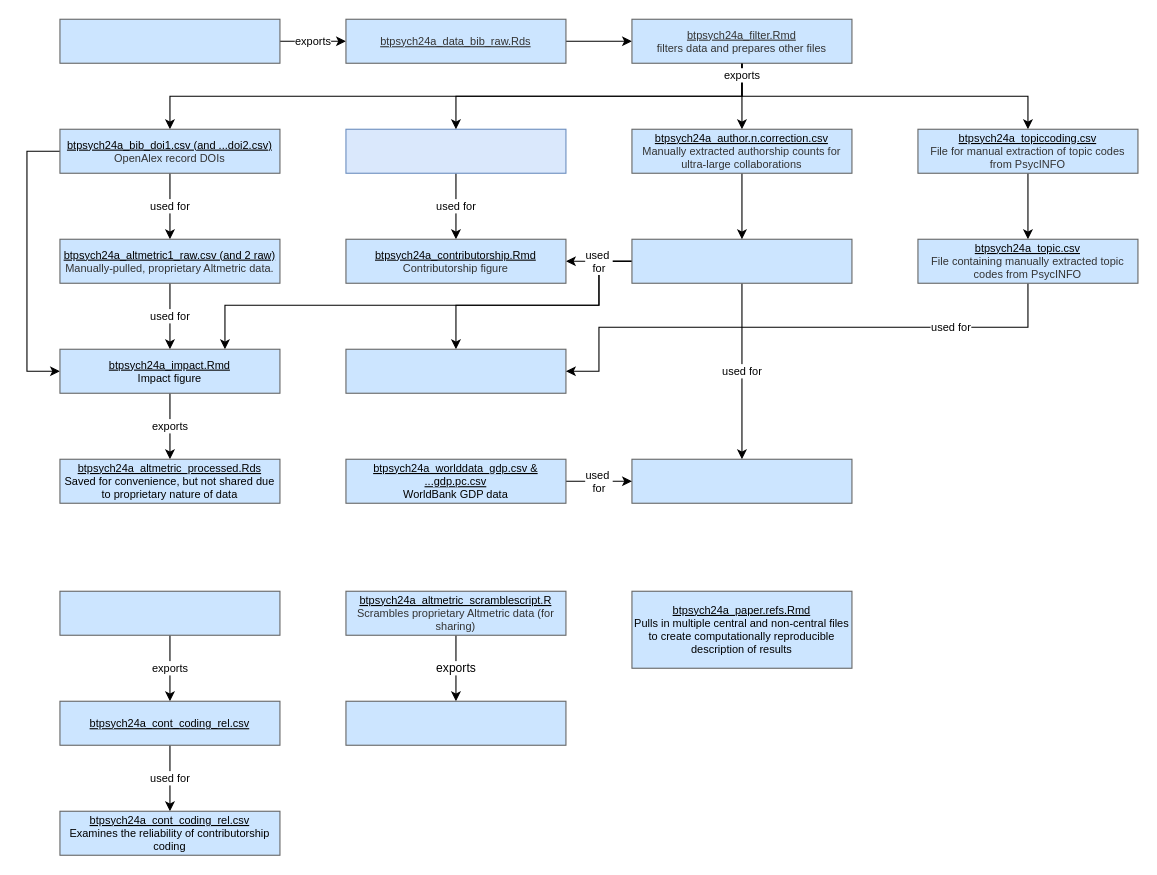
Some shapes in this 1157 by 875 pixel diagram are drawn without their labels. The centre of each missing label's shape, as x and y in pixels:
btpsych24a_altmetric1_scrambe.csv (and 2) Scrambled Altmetric data: (455,722)
btpsych24a_api.Rmd compiles records from OpenAlex API: (169,40)
btpsych24a_cont_coding.csv Random sample of articles for contributorship coding: (455,150)
btpsych24a_cont_reliability_prep.Rmd Prepares sheets for reliability checks: (169,612)
btpsych24a_data_bib_processed.Rds cleaned OpenAlex data: (741,260)
btpsych24a_map.Rmd Figure of geographical distribution and links to GDP: (741,480)
btpsych24a_timetopic .Rmd Time and topic figure: (455,370)
